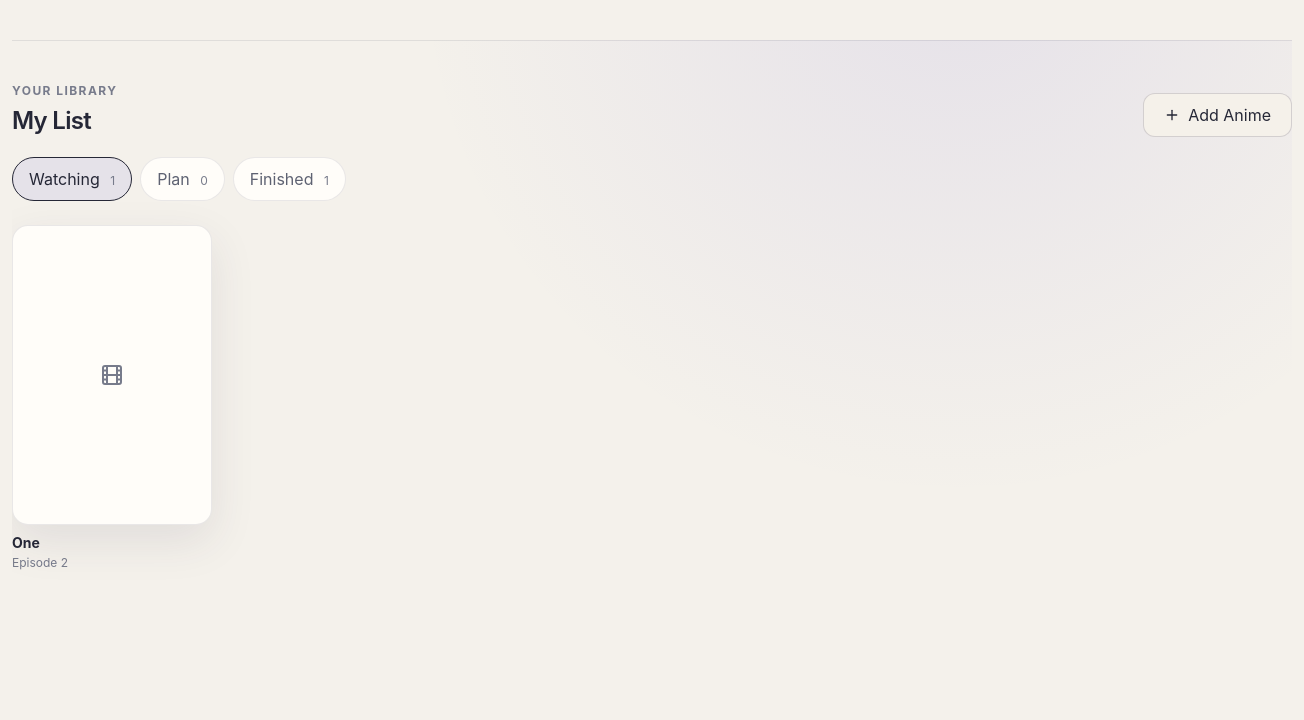
AnimeTrackingPanel › shows Watching and Finished as one filtered poster list
expect the text "One" is shown: met, box [12, 534, 40, 551]
Click the button "Finished 1".
click(289, 179)  # box [233, 157, 346, 201]
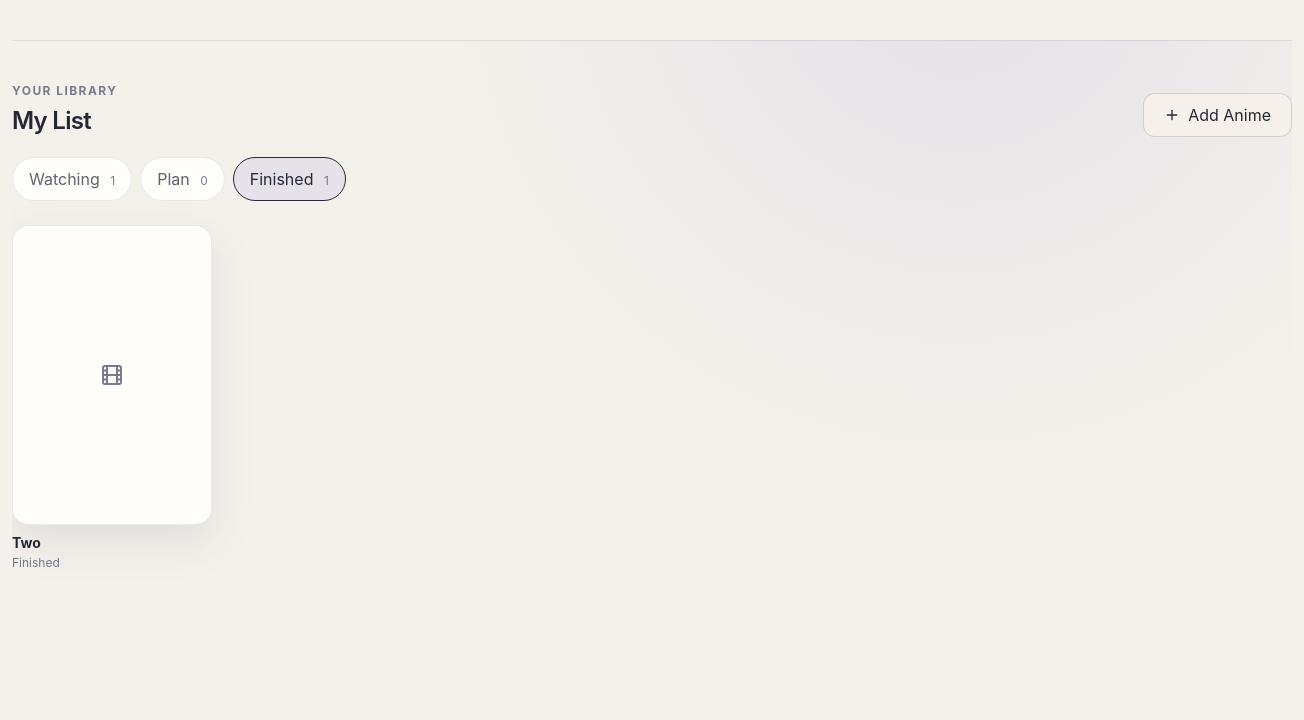
expect the number of buttons "Finished 1" is 2: met, box [233, 157, 346, 201]; [12, 555, 60, 570]
expect the text "Two" is shown: met, box [12, 534, 41, 551]
